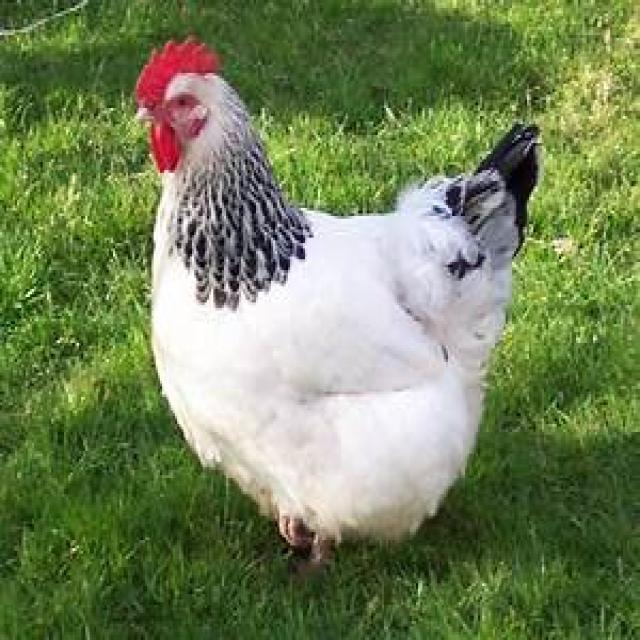hen: (136, 41, 539, 555)
